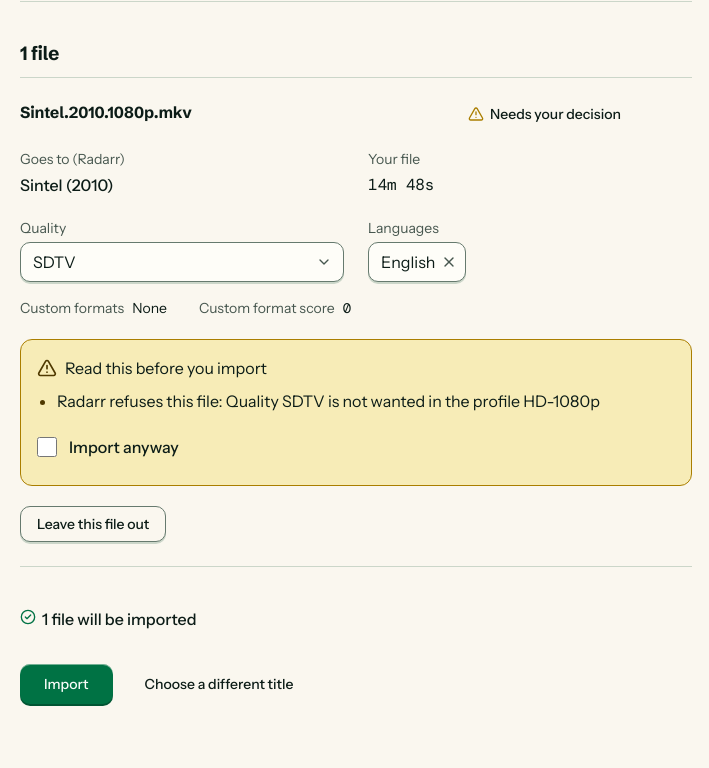
Test: overrides only an admin may confirm › shows the server's admin_required refusal in words
(page scrolled)
What coordinates should you click on to do the following:
click the checkbox labelled "Import anyway"
I would click on:
 (47, 447)
Its box is top-left (37, 437), bottom-right (57, 457).
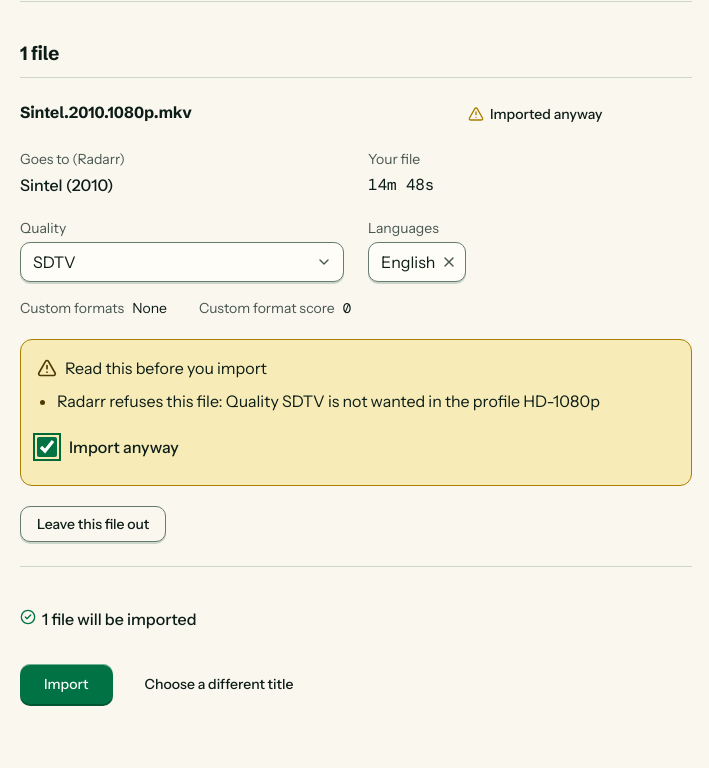
What coordinates should you click on to do the following:
click the button "Import"
I would click on:
 (66, 684)
Its box is top-left (20, 664), bottom-right (112, 704).
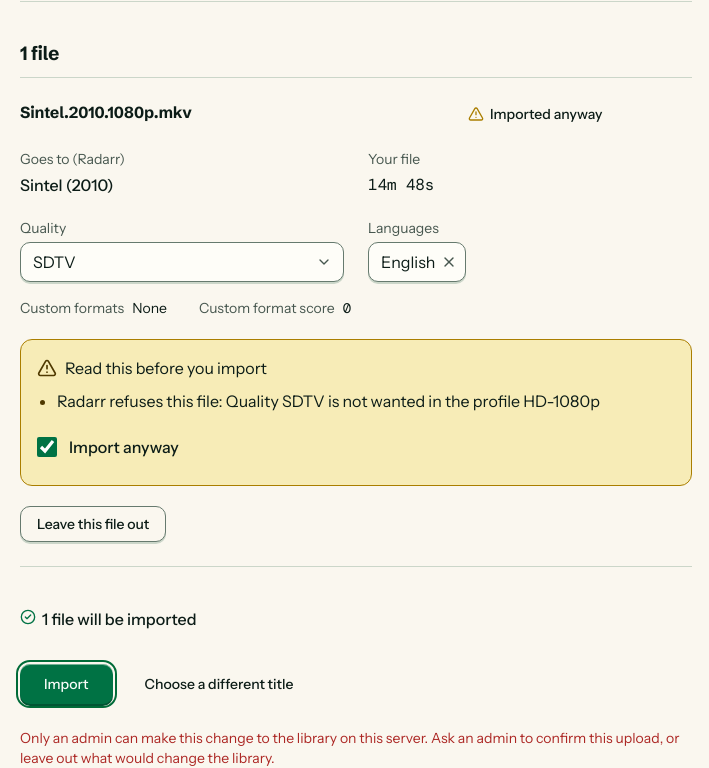
Check: the text "Only an admin can make this change to the library on this server" is shown, box top-left (20, 729), bottom-right (680, 767)
